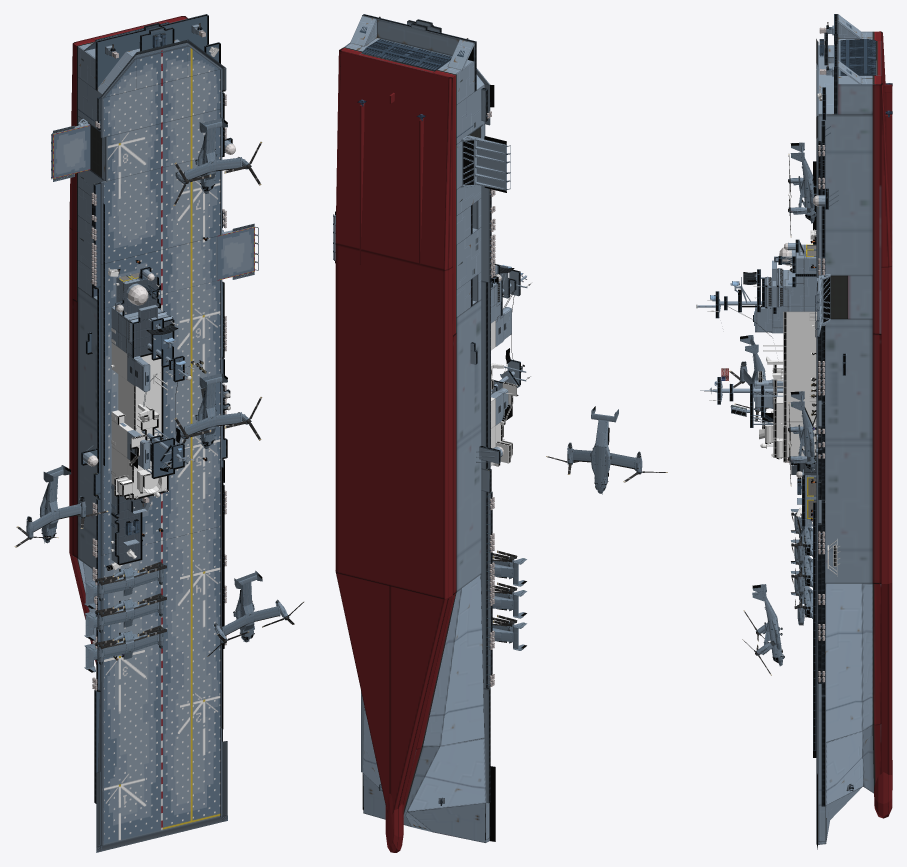
File: uss-wasp.glb
3 renders of one model, left to right at view 1: azimuth 30°, elevation 25°; view 2: azimuth 150°, elevation 25°; view 3: azimuth 270°, elevation 25°, orthographic. The views are drawn at different scales.
Visible parts, largest first — view 1: mesh (×25); view 2: mesh (×29); view 3: mesh (×35).
Part boxes in pixels (x1,y1,x2,y2): mesh (×25): [52, 14, 254, 851]; mesh (×29): [336, 15, 506, 852]; mesh (×35): [755, 32, 892, 842].
Bounding box in the file's own units: 106 × 270 × 61.38.
56 materials, 56 textured.
